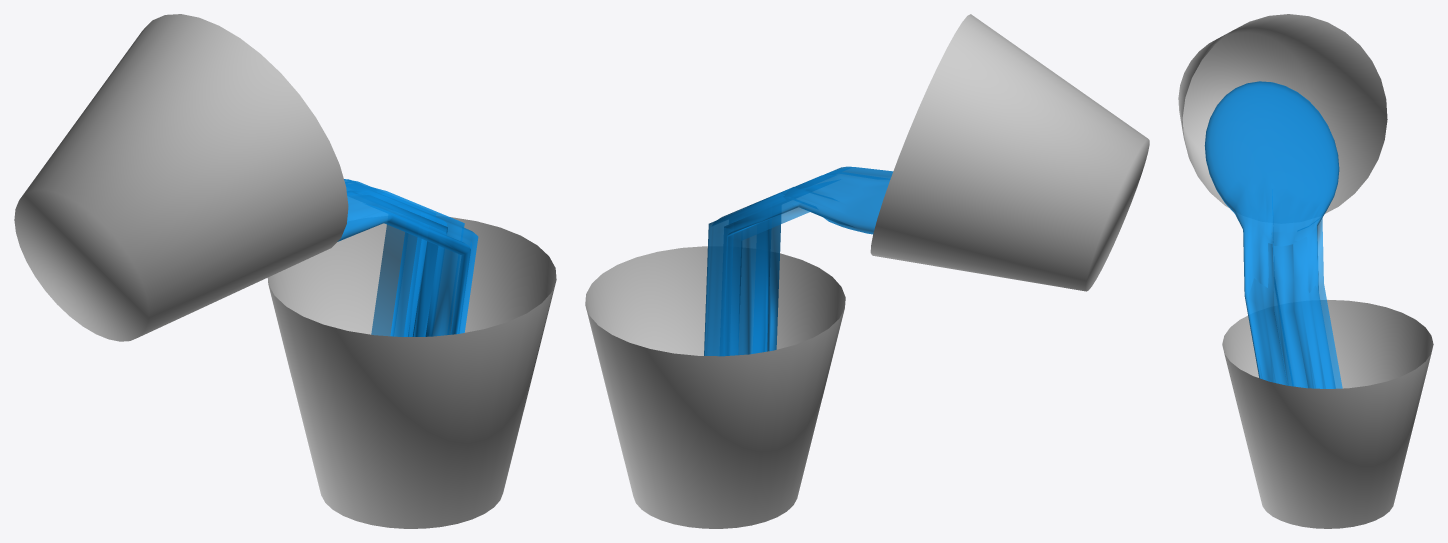
Rendered from glass of water.fbx.
3 views of the same model, side by side, from view 1: azimuth 30°, elevation 25°; view 2: azimuth 150°, elevation 25°; view 3: azimuth 270°, elevation 25° (orthographic). The views are drawn at different scales.
Parts seen in each view (by area): view 1: cup2, cup1, Sphere; view 2: cup1, cup2, Sphere; view 3: cup1, Sphere, cup2.
Part boxes in pixels (x1=…): cup2: x1=14, y1=14, x2=348, y2=341; cup1: x1=267, y1=217, x2=556, y2=528; Sphere: x1=337, y1=179, x2=478, y2=337; cup1: x1=585, y1=246, x2=845, y2=528; cup2: x1=870, y1=14, x2=1149, y2=291; Sphere: x1=704, y1=166, x2=893, y2=356; cup1: x1=1222, y1=299, x2=1433, y2=528; Sphere: x1=1204, y1=81, x2=1342, y2=388; cup2: x1=1178, y1=14, x2=1387, y2=213.
Bounding box in the file's own units: 532 × 514 × 296.
